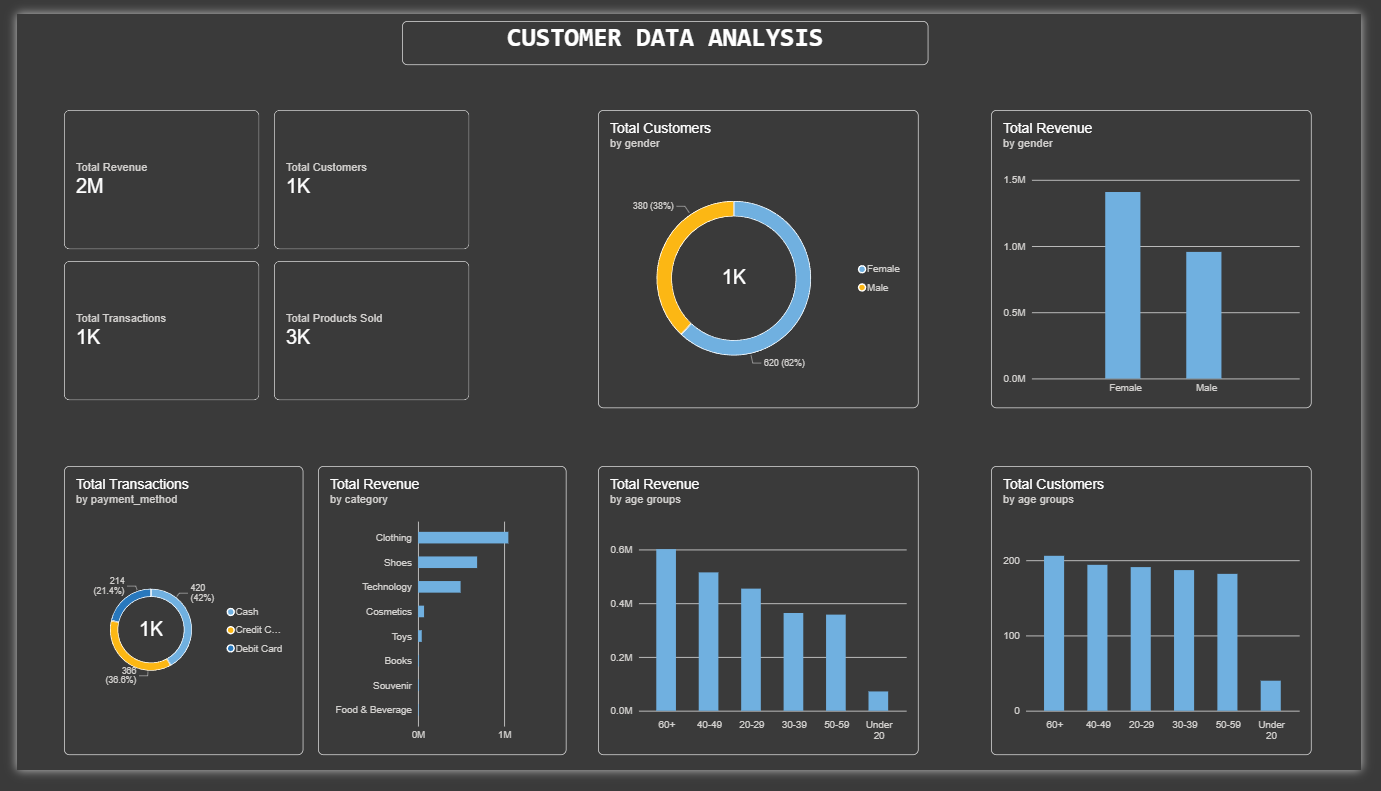

The dashboard page shown, as its layout file describes it:
{"tool":"powerbi","page":{"name":"CUSTOMER OVERVIEW","canvas":[1920,1080],"ordinal":0},"visuals":[{"type":"cardVisual","fields":{"Data":["customer data.Total Customers"]},"box":[367.4,137.1,279.5,199.2],"z":0},{"type":"cardVisual","fields":{"Data":["customer data.Total Products Sold"]},"box":[367.4,353.2,279.5,199.2],"z":1},{"type":"cardVisual","fields":{"Data":["customer data.Total Revenue"]},"box":[67.3,137.1,279.5,199.2],"z":2},{"type":"cardVisual","fields":{"Data":["customer data.Total Transactions"]},"box":[67.3,353.2,279.5,199.2],"z":3},{"type":"donutChart","fields":{"Category":["customer data.gender"],"Y":["customer data.Total Customers"]},"box":[829.3,137.1,458,425.7],"z":4},{"type":"clusteredColumnChart","fields":{"Category":["customer data.gender"],"Y":["customer data.Total Revenue"]},"box":[1390.8,137.1,458,425.7],"z":5},{"type":"clusteredColumnChart","fields":{"Category":["customer data.age groups"],"Y":["customer data.Total Customers"]},"box":[1390.8,645.6,458,412.7],"z":6},{"type":"clusteredColumnChart","fields":{"Category":["customer data.age groups"],"Y":["customer data.Total Revenue"]},"box":[829.3,645.6,458,412.7],"z":7},{"type":"barChart","fields":{"Category":["customer data.category"],"Y":["customer data.Total Revenue"]},"box":[429.5,645.6,354.5,412.7],"z":8},{"type":"donutChart","fields":{"Category":["customer data.payment_method"],"Y":["customer data.Total Transactions"]},"box":[67.3,645.6,341.6,412.7],"z":9},{"type":"textbox","box":[549.9,10.4,751.7,63.4],"z":10}]}

Visuals, with their boxes in screenshot pixels (x1, y1, x2, y2), scaled from the page's 1920x1080 canvas onto the 1381x791 screenshot:
cardVisual - customer data.Total Customers: locate(264, 100, 465, 246)
cardVisual - customer data.Total Products Sold: locate(264, 259, 465, 405)
cardVisual - customer data.Total Revenue: locate(48, 100, 249, 246)
cardVisual - customer data.Total Transactions: locate(48, 259, 249, 405)
donutChart - customer data.gender x customer data.Total Customers: locate(596, 100, 926, 412)
clusteredColumnChart - customer data.gender x customer data.Total Revenue: locate(1000, 100, 1330, 412)
clusteredColumnChart - customer data.age groups x customer data.Total Customers: locate(1000, 473, 1330, 775)
clusteredColumnChart - customer data.age groups x customer data.Total Revenue: locate(596, 473, 926, 775)
barChart - customer data.category x customer data.Total Revenue: locate(309, 473, 564, 775)
donutChart - customer data.payment_method x customer data.Total Transactions: locate(48, 473, 294, 775)
textbox: locate(396, 8, 936, 54)
